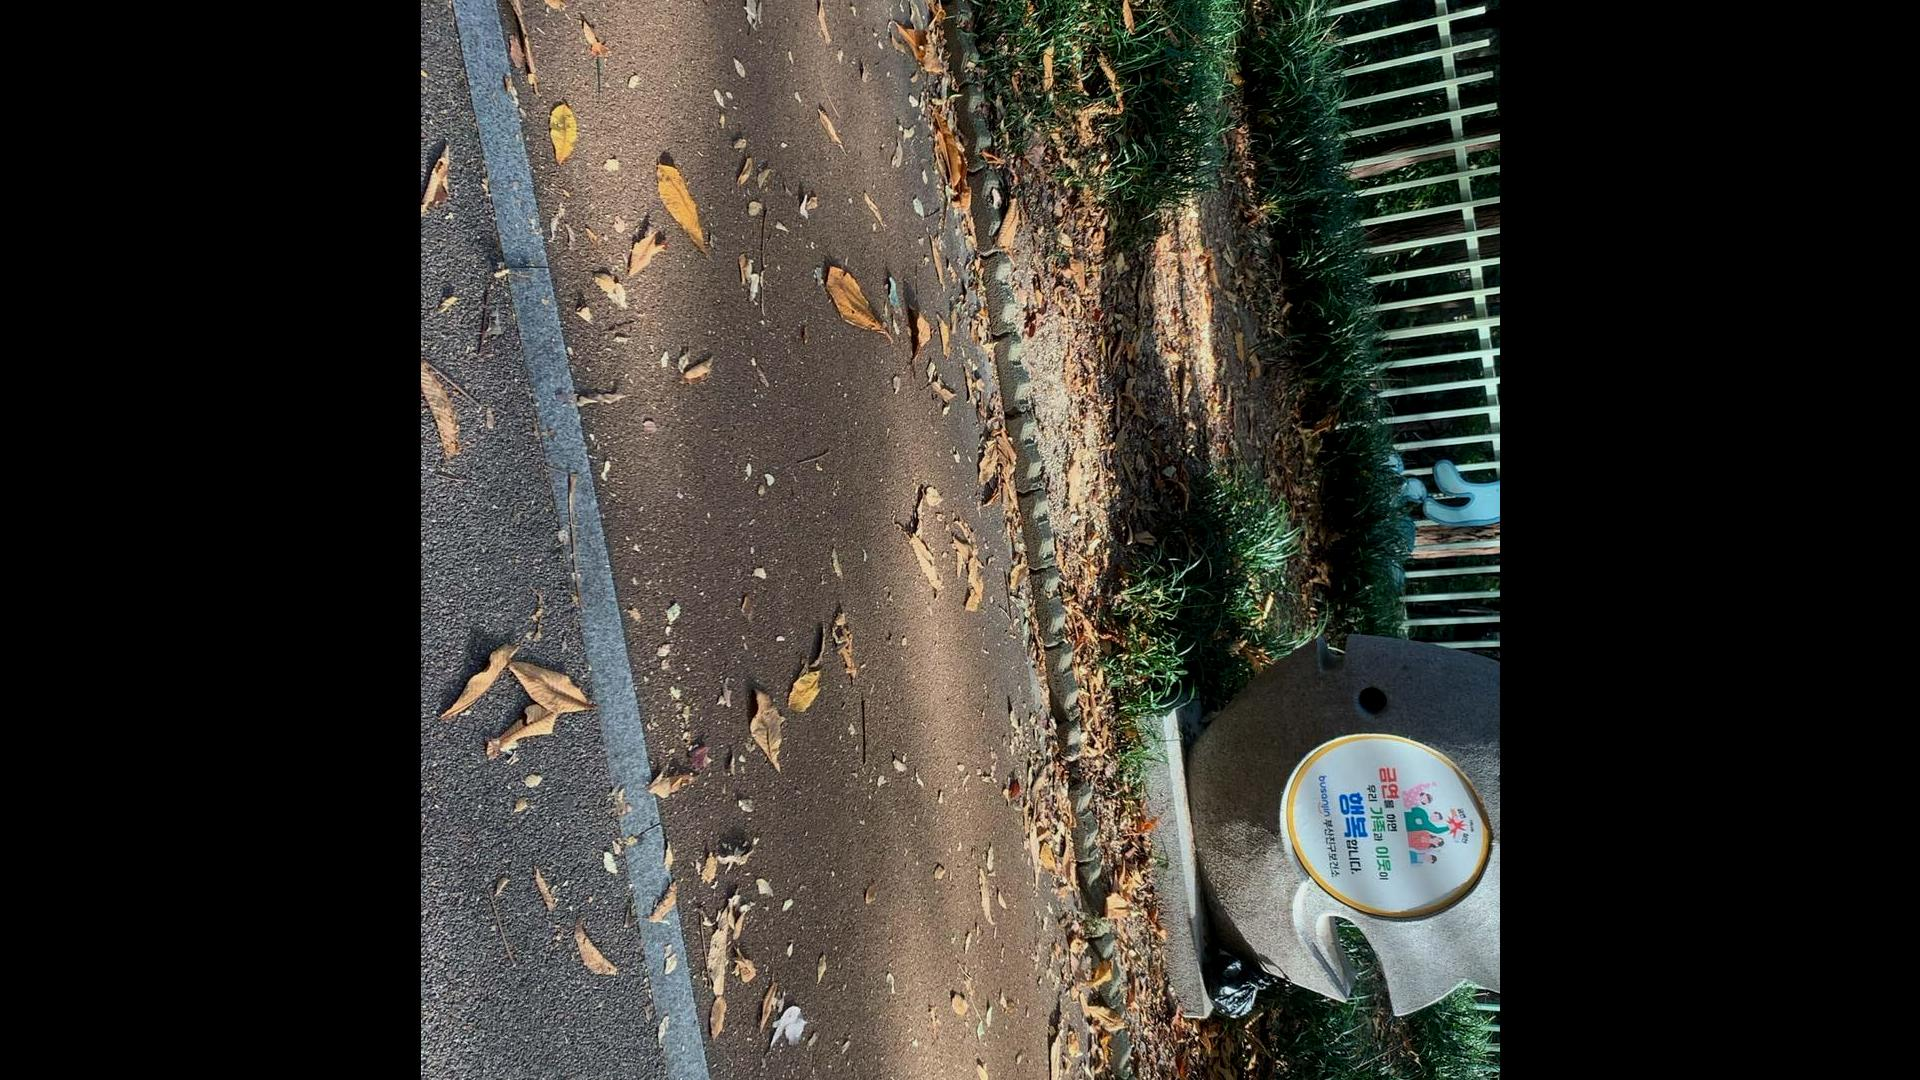black_bag: (1203, 951, 1294, 1019)
